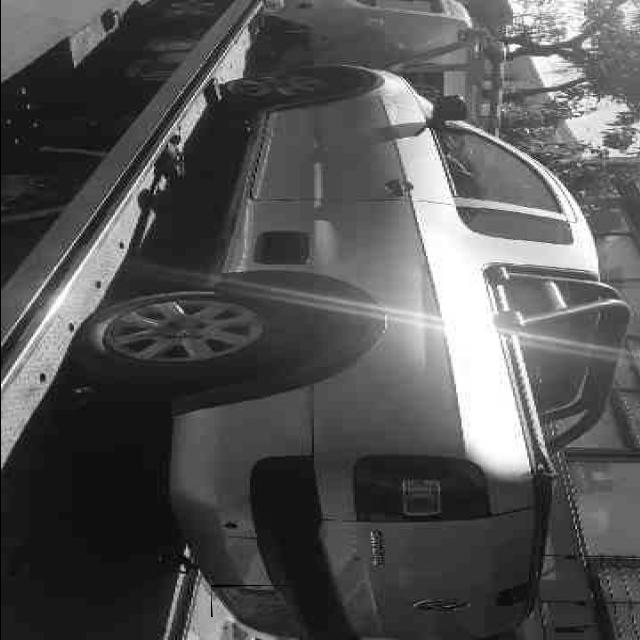plate: (210, 586, 297, 617)
